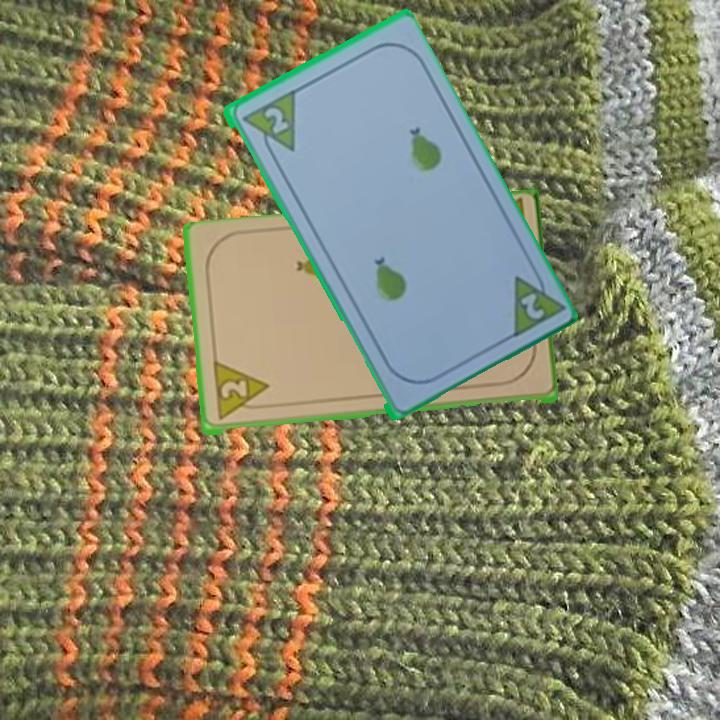2p: (209, 360, 272, 424), (260, 103, 291, 137), (516, 288, 547, 322)
